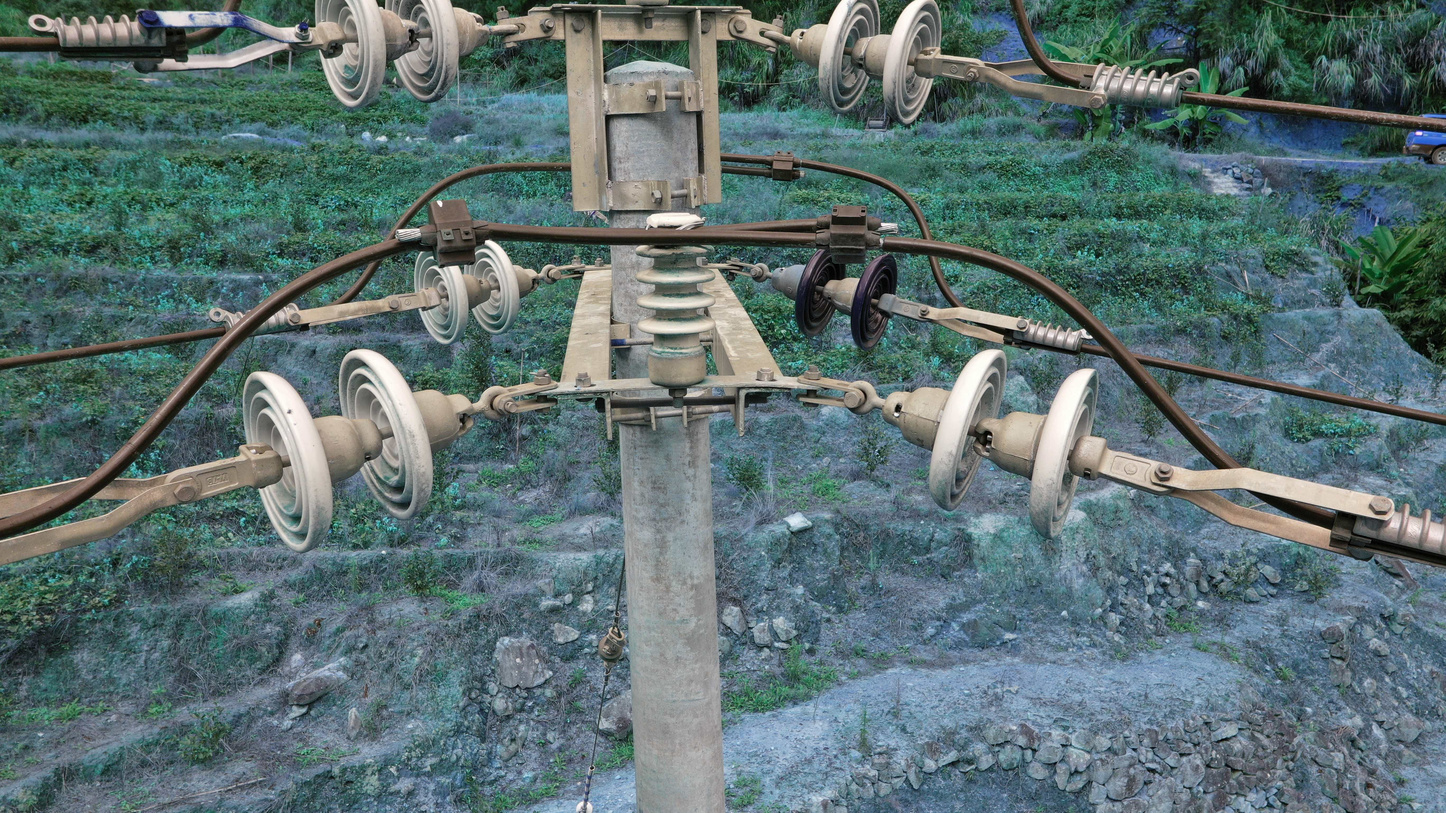severe_soiling_no_discharge_whole: (238, 339, 480, 553), (878, 334, 1100, 543), (313, 2, 491, 113), (787, 3, 944, 127), (634, 207, 725, 394), (413, 241, 542, 348)
